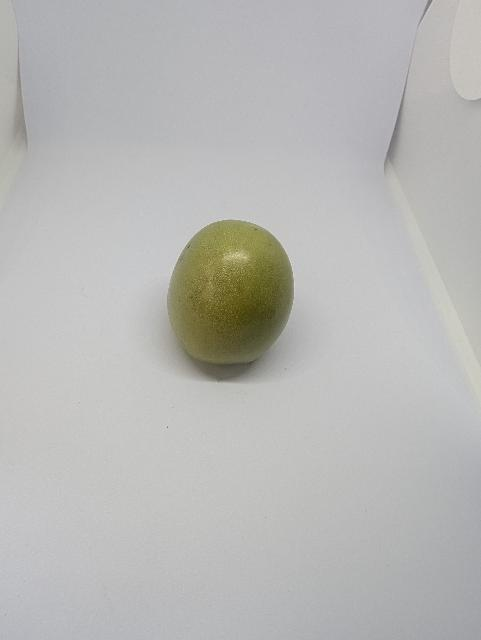green: (166, 218, 296, 366)
